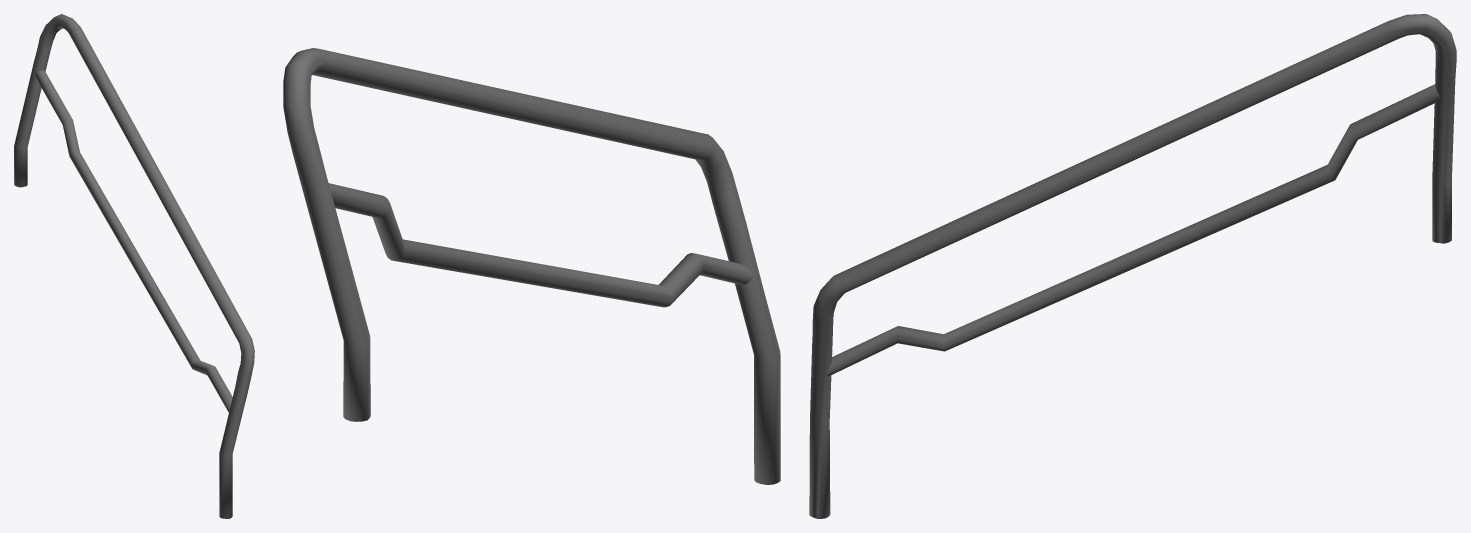
Rendered from Prop_Rail_Incline_Short_R.glb.
The picture shows the model from 3 angles, left to right: view 1: azimuth 30°, elevation 25°; view 2: azimuth 150°, elevation 25°; view 3: azimuth 270°, elevation 25°; orthographic projection. The views are drawn at different scales.
Parts seen in each view (by area): view 1: Prop_Rail_Incline_Short_R; view 2: Prop_Rail_Incline_Short_R; view 3: Prop_Rail_Incline_Short_R.
Part boxes in pixels (<box>): Prop_Rail_Incline_Short_R: <box>14,14,254,518</box>; Prop_Rail_Incline_Short_R: <box>283,48,780,484</box>; Prop_Rail_Incline_Short_R: <box>809,14,1456,518</box>.
Bounding box in the file's own units: 0.2545 × 1.7 × 1.89.
1 material, 1 textured.
